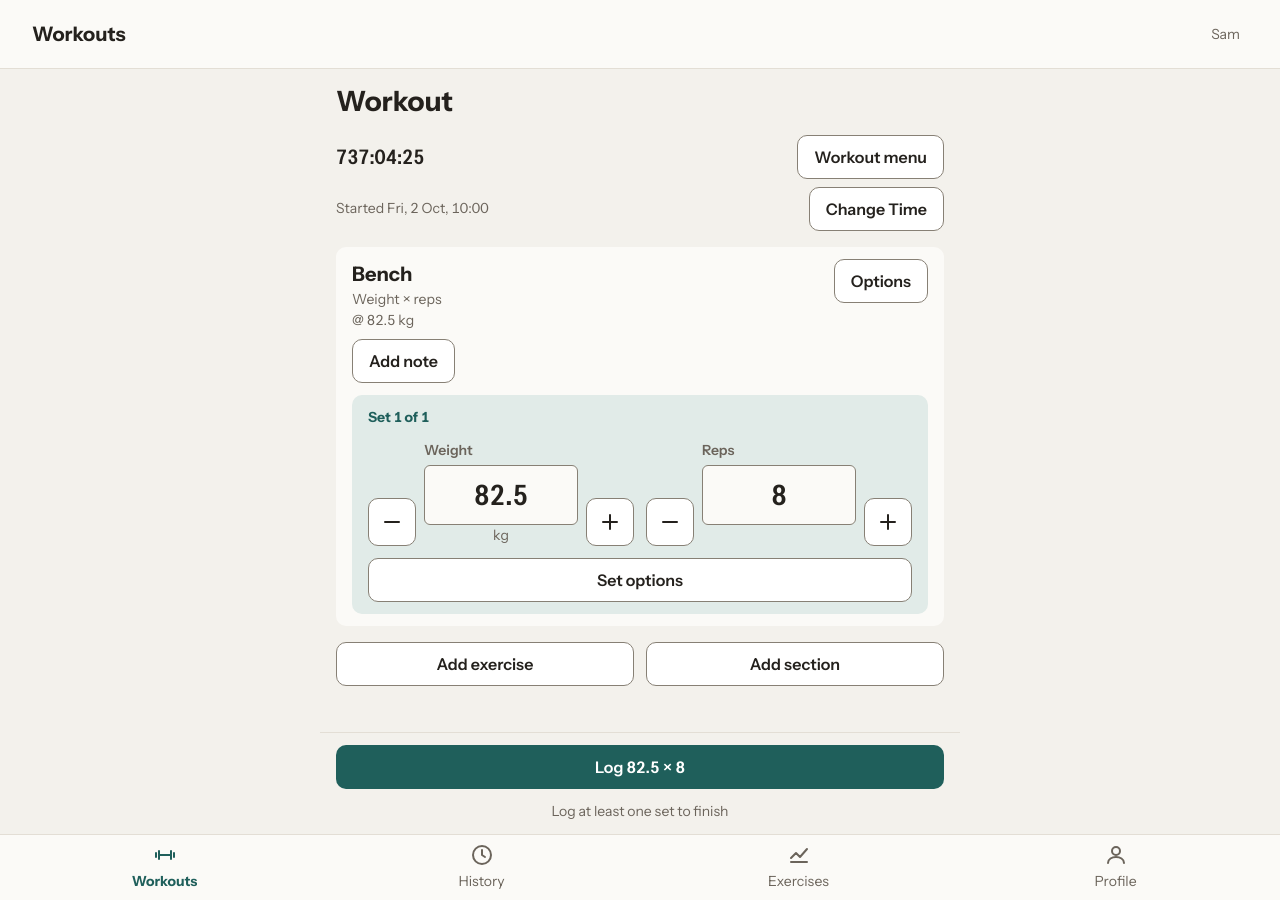
Test: 10.2 AC33 — nothing planned reaches analytics or error reports › logging a planned set tracks only the existing set_logged properties
The width and height of the screenshot is (1280, 900).
Expected: the heading "Workout" is shown, x1=336 y1=84 x2=453 y2=118
Step 1. Click the button "Log 82.5 × 8" → (640, 767), box x1=336 y1=745 x2=944 y2=789
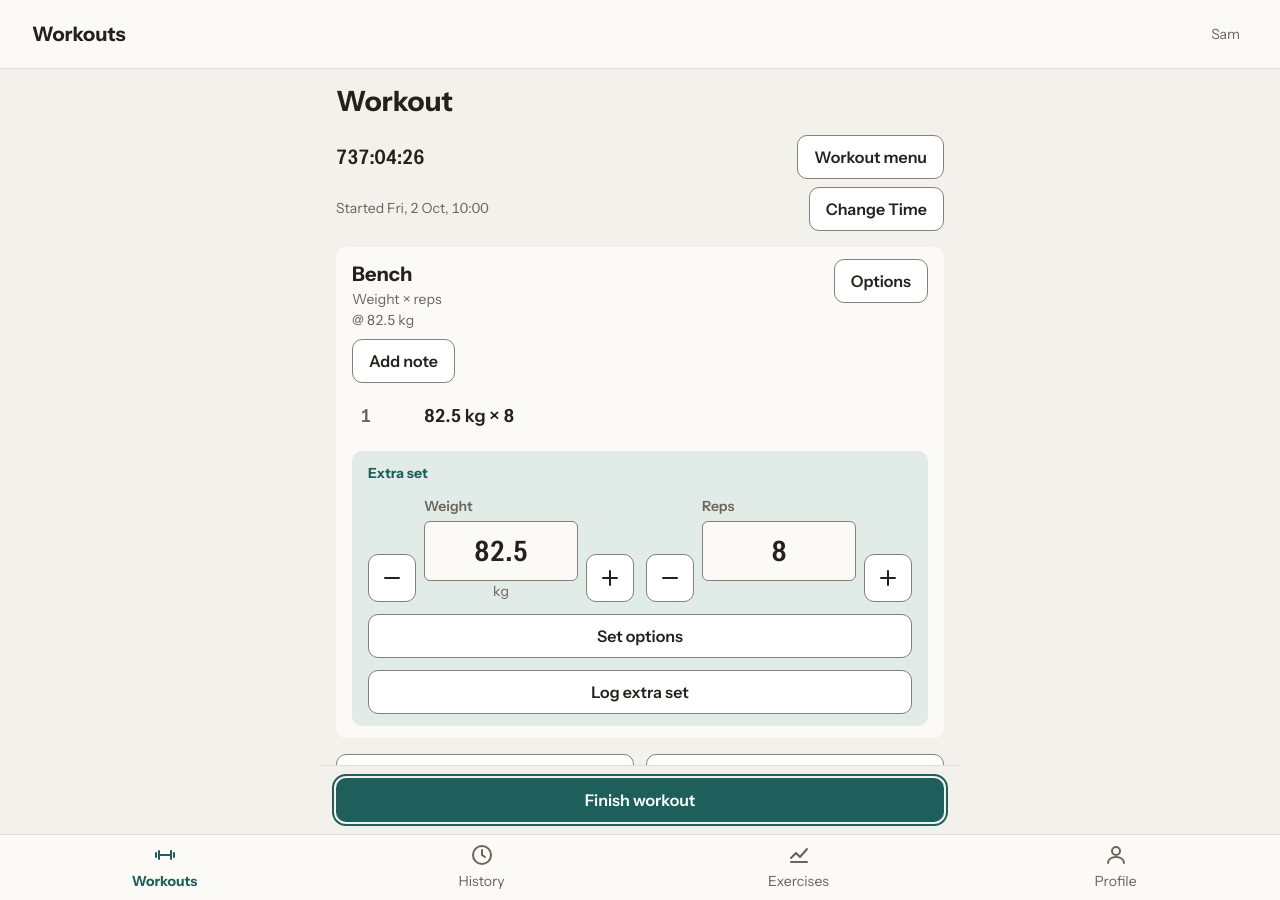
Expected: the text "Extra set" is shown, x1=368 y1=463 x2=428 y2=484
